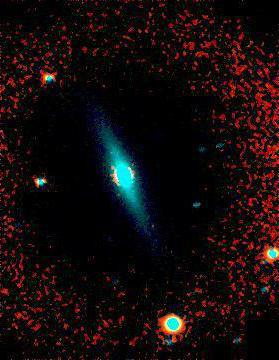star: (138, 211, 168, 241)
